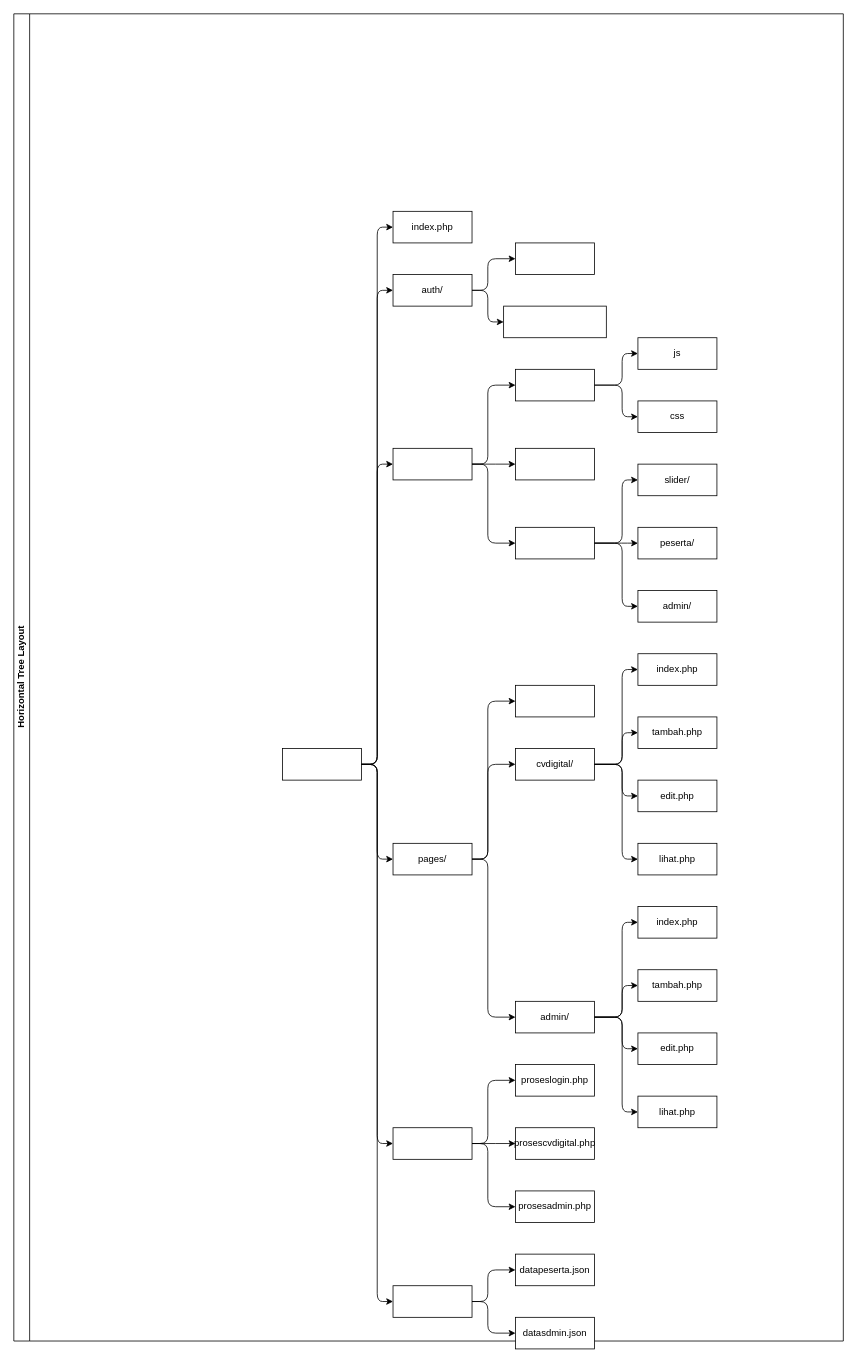
Some shapes in this 857 by 1363 pixel diagram are drawn without their labels. Here are the shapes that lost their labels. From the top down, the centre of each, then its label:
[554,258]: loginuser.php
[554,321]: registrasipeserta.php
[554,385]: css/
[432,464]: assets/
[554,464]: plugins/
[554,543]: image/
[554,701]: dashboard.php
[321,764]: cvdigital
[432,1143]: proses/
[432,1301]: data/
